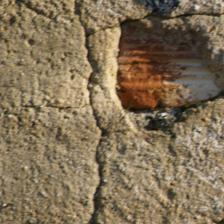Crack: (0, 184, 144, 210), (3, 105, 115, 120)
